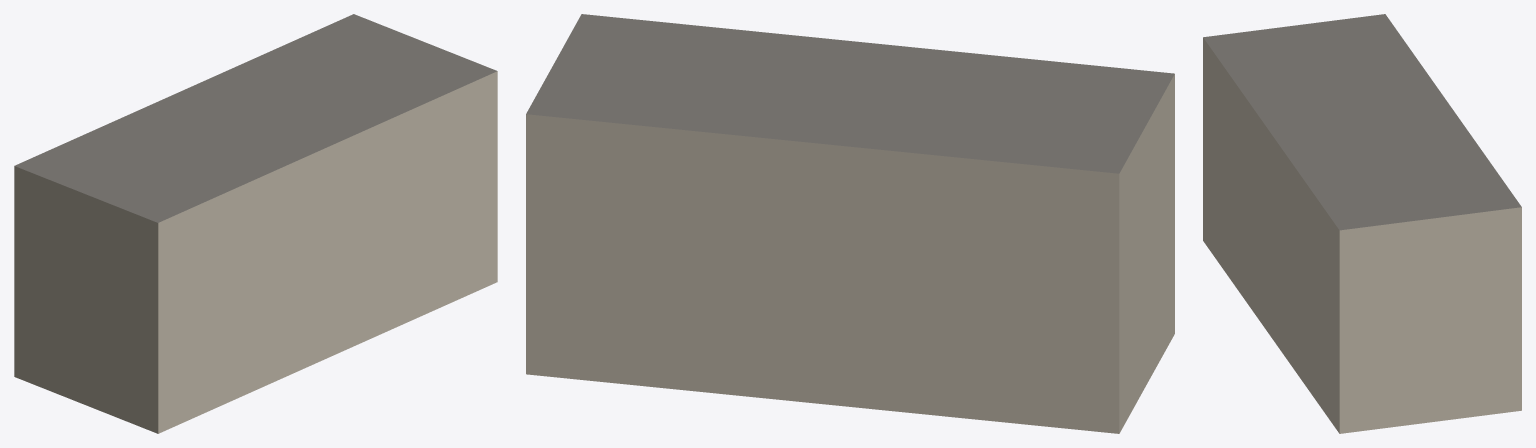
The picture shows the model from 3 angles, left to right: view 1: azimuth 30°, elevation 25°; view 2: azimuth 150°, elevation 25°; view 3: azimuth 270°, elevation 25°; orthographic projection. The views are drawn at different scales.
Parts seen in each view (by area): view 1: HP-w378107129; view 2: HP-w378107129; view 3: HP-w378107129.
Boxes of the visible parts, left/top/right/bottom form: HP-w378107129: left=14, top=14, right=497, bottom=433; HP-w378107129: left=526, top=14, right=1174, bottom=433; HP-w378107129: left=1203, top=14, right=1521, bottom=433.
Bounding box in the file's own units: 41.05 × 18 × 25.56.
